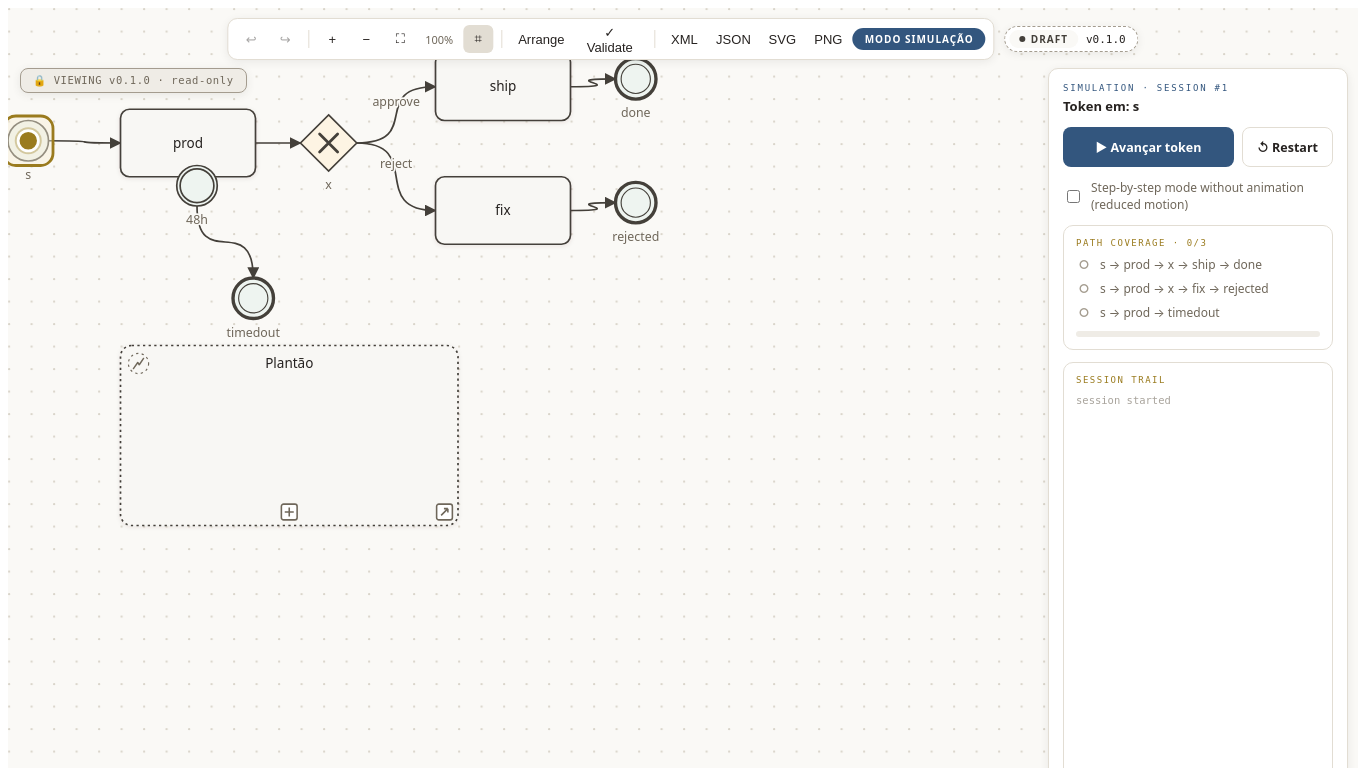
event subprocess na simulação (ES-5 §4e) › card de lançar erro existe SEM boundary (esub de erro no escopo) e o throw nomeia a captura
Click the button "▶ Avançar token".
click(1148, 147)  # box [1063,127,1234,167]
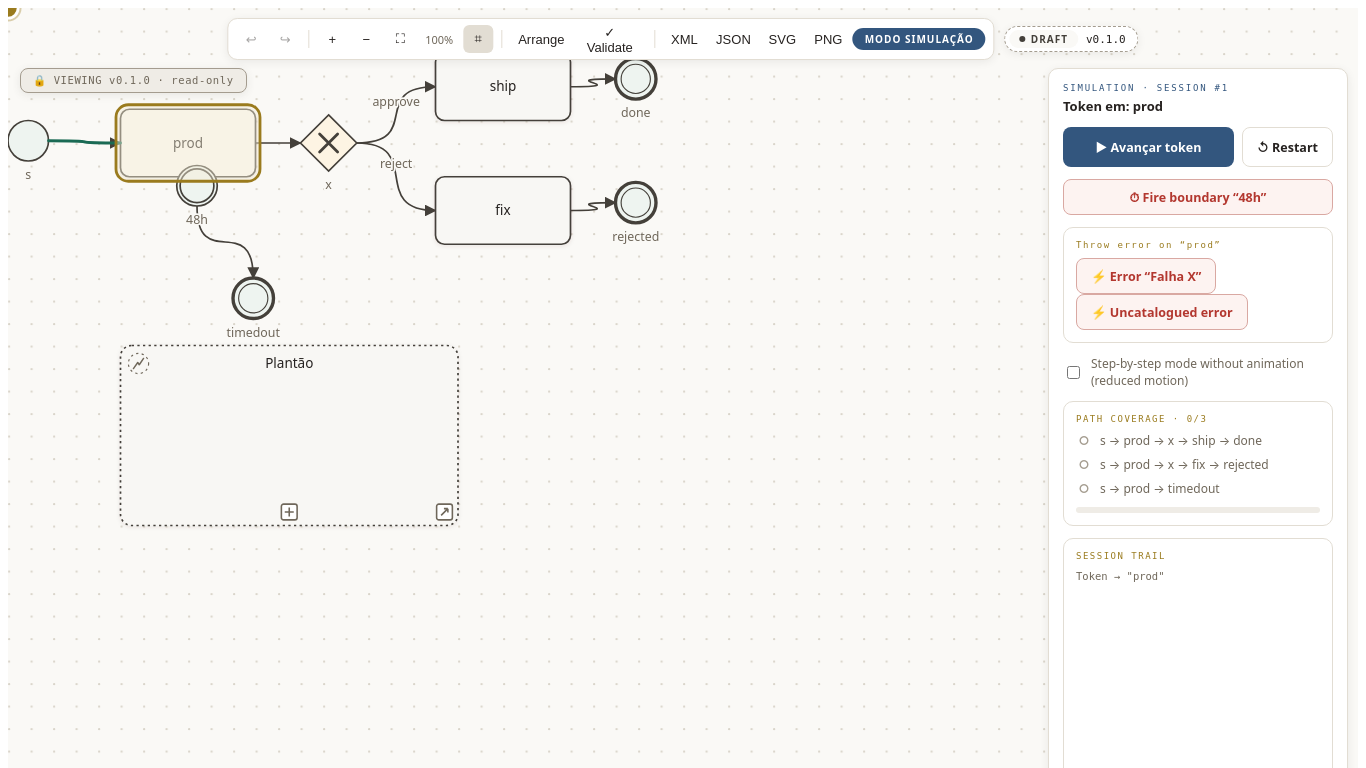
Result: the element showing "Throw error on “prod” ⚡ Error “Falha X” ⚡ Uncatalogued error" is shown at [1063,227,1333,343]
Click the button "⚡ Error “Falha X”".
click(1146, 276)  # box [1076,258,1216,294]
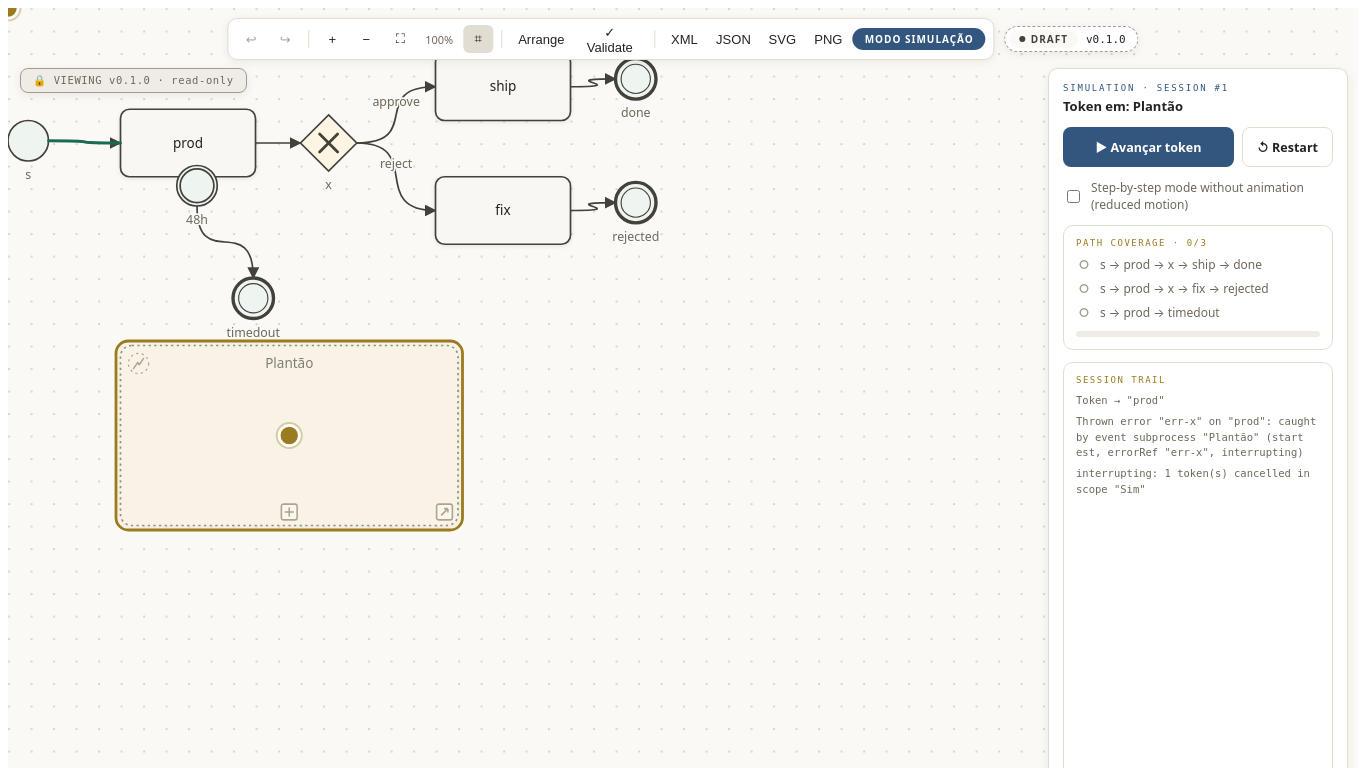
Result: the element that starts with "Token → \"prod\"" shows "caught by event subprocess \"Plantão\" (start est, errorRef \"err-x\", interrupting)" at [1076,415,1316,458]
Result: the element that starts with "Token → \"prod\"" shows "token(s) cancelled in scope" at [1076,467,1310,495]
